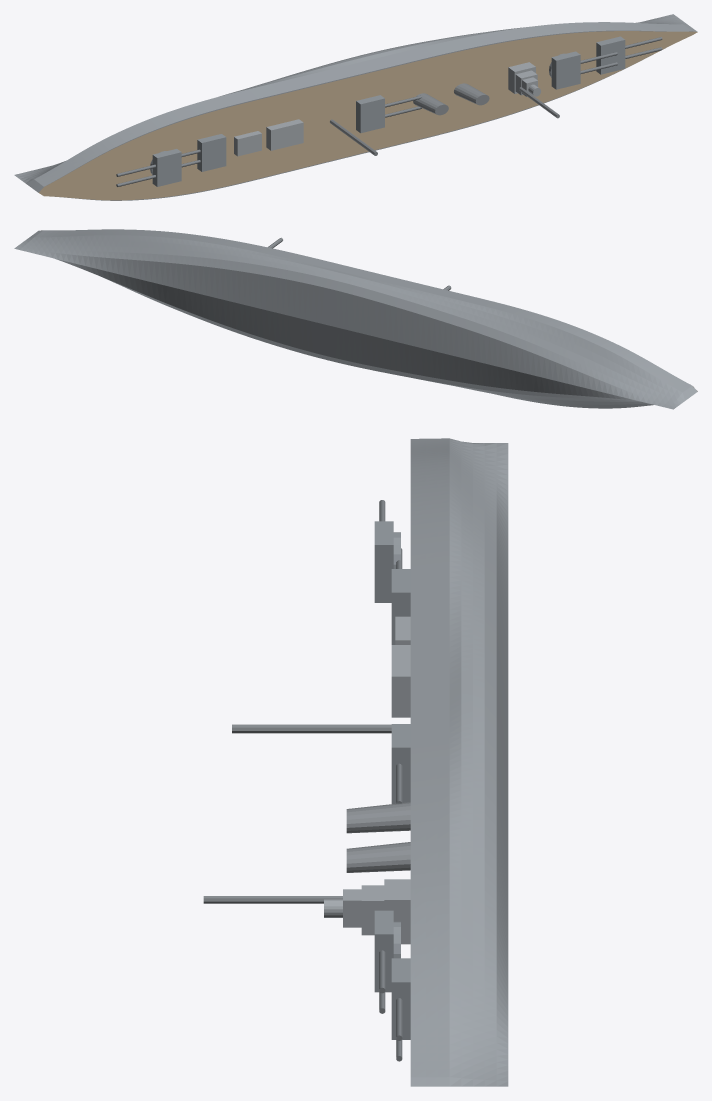
The model's file is amagi_fullship.glb.
The picture shows the model from 3 angles, top to bottom: view 1: azimuth 30°, elevation 25°; view 2: azimuth 150°, elevation 25°; view 3: azimuth 270°, elevation 25°; orthographic projection. The views are drawn at different scales.
Parts seen in each view (by area): view 1: amagi_fullship; view 2: amagi_fullship; view 3: amagi_fullship.
Part boxes in pixels (x1,y1,x2,y2): amagi_fullship: (14, 14, 697, 200); amagi_fullship: (14, 229, 697, 409); amagi_fullship: (203, 438, 508, 1086).
Bounding box in the file's own units: 247 × 31.34 × 49.38.
